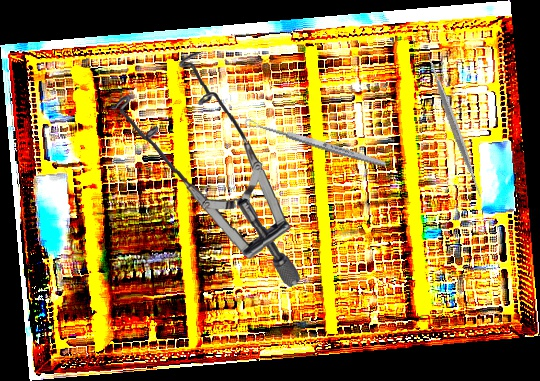Spatula Surgical: (374, 44, 535, 207)
Speculum: (108, 48, 301, 294)
Surgical Spoon: (243, 117, 388, 169)
